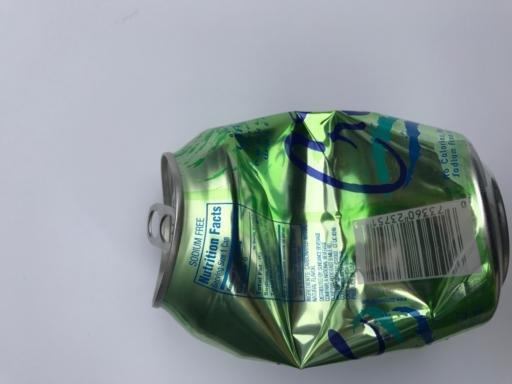kaleng: (151, 112, 509, 368)
